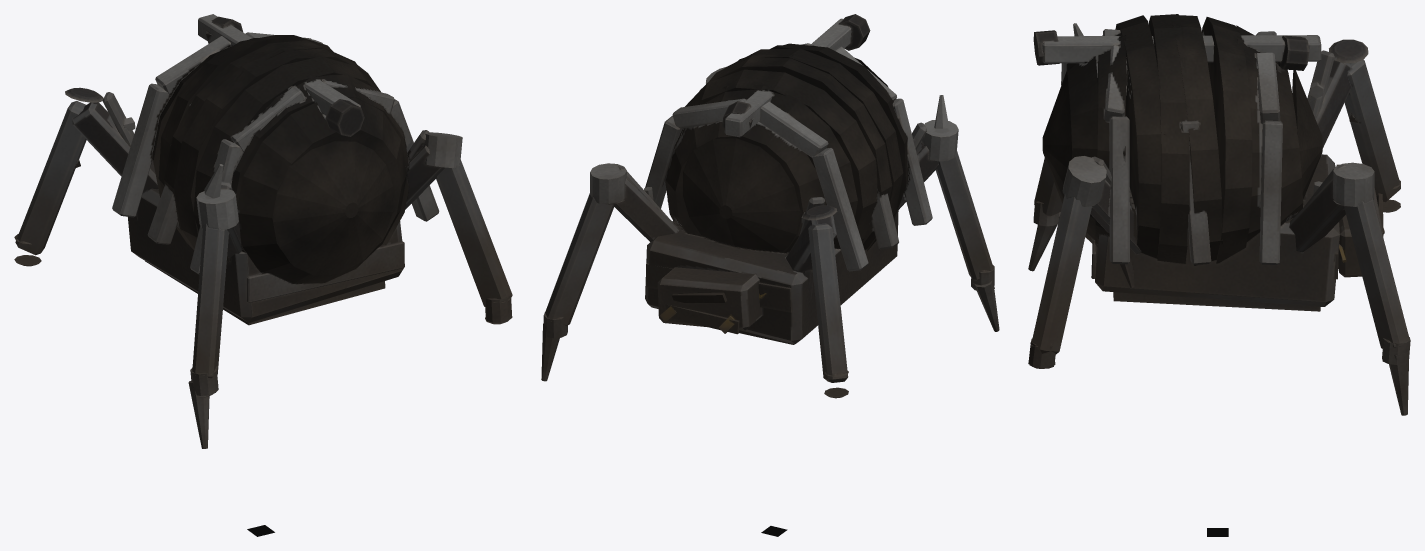
Rendered from chs_pustule_wreck.fbx.
3 renders of one model, left to right at view 1: azimuth 30°, elevation 25°; view 2: azimuth 150°, elevation 25°; view 3: azimuth 270°, elevation 25°, orthographic. The views are drawn at different scales.
Visible parts, largest first — view 1: base_bar, shinBL_bar, shinBR_bar, shinFL_bar, thighFL_bar, thighBR_bar, thighBL_bar; view 2: base_bar, torso_bar, shinFR_bar, shinBL_bar, shinFL_bar, thighFR_bar, thighBL_bar, thighFL_bar; view 3: base_bar, shinFR_bar, shinBR_bar, shinFL_bar, thighFR_bar, thighFL_bar, thighBR_bar, shinBL_bar, torso_bar.
Part boxes in pixels (<box>): base_bar: <box>112,14,439,325</box>; shinBL_bar: <box>188,164,228,448</box>; shinBR_bar: <box>436,159,512,324</box>; shinFL_bar: <box>14,101,86,266</box>; thighFL_bar: <box>65,87,158,220</box>; thighBR_bar: <box>405,130,462,209</box>; thighBL_bar: <box>196,181,242,257</box>; base_bar: <box>645,14,932,344</box>; torso_bar: <box>657,267,762,334</box>; shinFR_bar: <box>541,193,613,381</box>; shinBL_bar: <box>934,95,999,331</box>; shinFL_bar: <box>808,223,848,398</box>; thighFR_bar: <box>590,163,678,241</box>; thighBL_bar: <box>897,120,958,210</box>; thighFL_bar: <box>786,197,837,299</box>; base_bar: <box>1033,14,1346,311</box>; shinFR_bar: <box>1344,198,1410,415</box>; shinBR_bar: <box>1028,194,1091,368</box>; shinFL_bar: <box>1344,60,1400,212</box>; thighFR_bar: <box>1289,162,1374,252</box>; thighFL_bar: <box>1307,39,1368,148</box>; thighBR_bar: <box>1062,156,1141,287</box>; shinBL_bar: <box>1028,23,1083,271</box>; torso_bar: <box>1338,188,1384,277</box>.
Size of the model in its own units: 359 by 520 by 356.
Materials: 2 (2 with a texture image).
